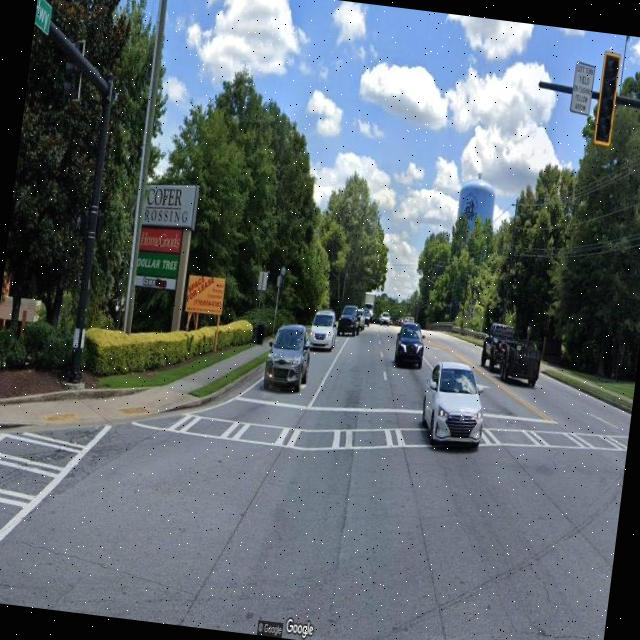trash_can: (254, 322, 266, 346)
